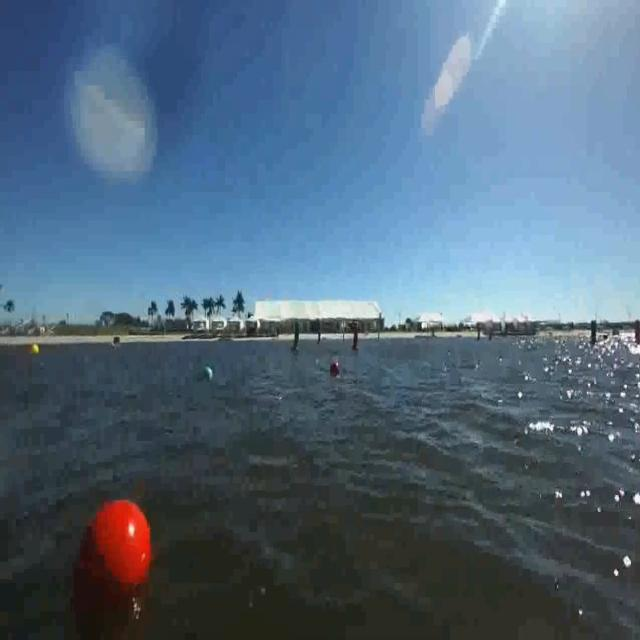green-buoy: (198, 366, 212, 380)
green-column-buoy: (290, 320, 302, 354)
red-buoy: (70, 493, 161, 614), (330, 361, 338, 374)
red-column-buoy: (352, 326, 361, 352), (632, 318, 640, 345)
yellow-buoy: (31, 342, 41, 357)
